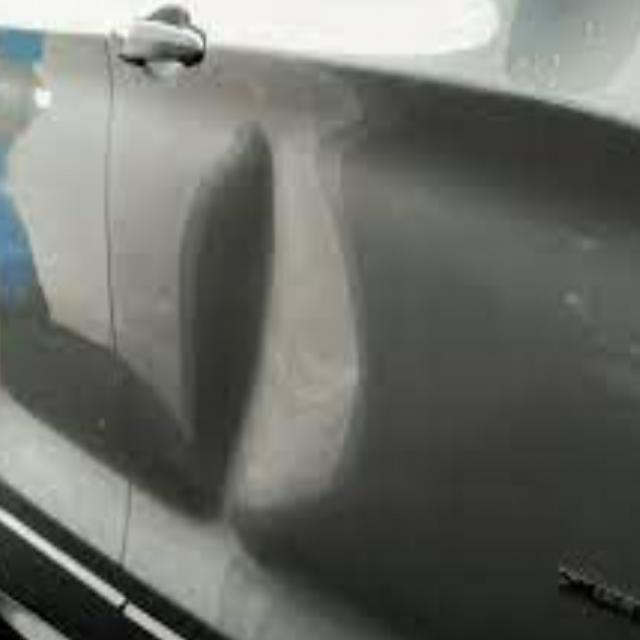dents: (148, 133, 367, 523)
